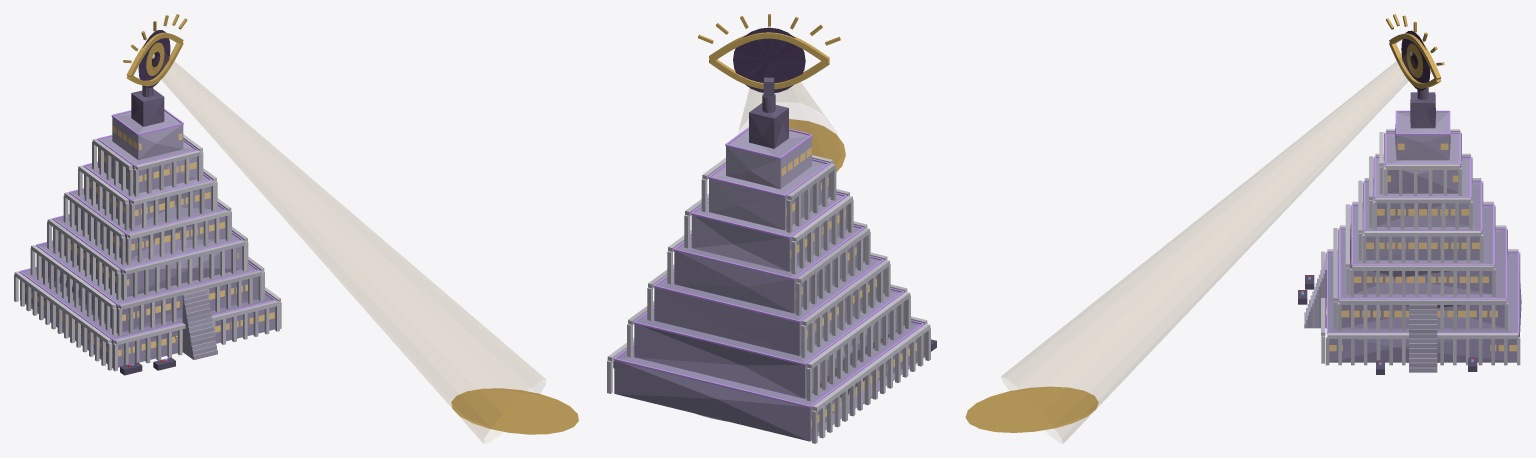
File: halcyon_hq.glb
The picture shows the model from 3 angles, left to right: view 1: azimuth 30°, elevation 25°; view 2: azimuth 150°, elevation 25°; view 3: azimuth 270°, elevation 25°; orthographic projection. The views are drawn at different scales.
Visible parts, largest first — view 1: halcyon_hq__solid, halcyon_hq__eye_beam, halcyon_hq__eye_neon, halcyon_hq__neon, halcyon_hq__win, halcyon_hq__eye_solid; view 2: halcyon_hq__solid, halcyon_hq__neon, halcyon_hq__eye_neon, halcyon_hq__eye_solid, halcyon_hq__eye_beam, halcyon_hq__win; view 3: halcyon_hq__solid, halcyon_hq__eye_beam, halcyon_hq__eye_neon, halcyon_hq__neon, halcyon_hq__win, halcyon_hq__eye_solid.
Boxes of the visible parts, left/top/right/bottom form: halcyon_hq__solid: left=14, top=85, right=281, bottom=375; halcyon_hq__eye_beam: left=153, top=53, right=545, bottom=443; halcyon_hq__eye_neon: left=123, top=14, right=578, bottom=434; halcyon_hq__neon: left=19, top=109, right=276, bottom=365; halcyon_hq__win: left=25, top=126, right=274, bottom=356; halcyon_hq__eye_solid: left=138, top=30, right=170, bottom=88; halcyon_hq__solid: left=607, top=93, right=936, bottom=443; halcyon_hq__neon: left=613, top=127, right=924, bottom=407; halcyon_hq__eye_neon: left=698, top=14, right=845, bottom=171; halcyon_hq__eye_solid: left=733, top=27, right=805, bottom=97; halcyon_hq__eye_beam: left=739, top=82, right=829, bottom=129; halcyon_hq__win: left=781, top=147, right=916, bottom=427; halcyon_hq__solid: left=1298, top=87, right=1521, bottom=374; halcyon_hq__eye_beam: left=1001, top=54, right=1416, bottom=442; halcyon_hq__eye_neon: left=965, top=14, right=1444, bottom=432; halcyon_hq__neon: left=1301, top=110, right=1519, bottom=364; halcyon_hq__win: left=1329, top=143, right=1516, bottom=351; halcyon_hq__eye_solid: left=1401, top=30, right=1430, bottom=90.
Size of the model in its own units: 103 by 105 by 157.
